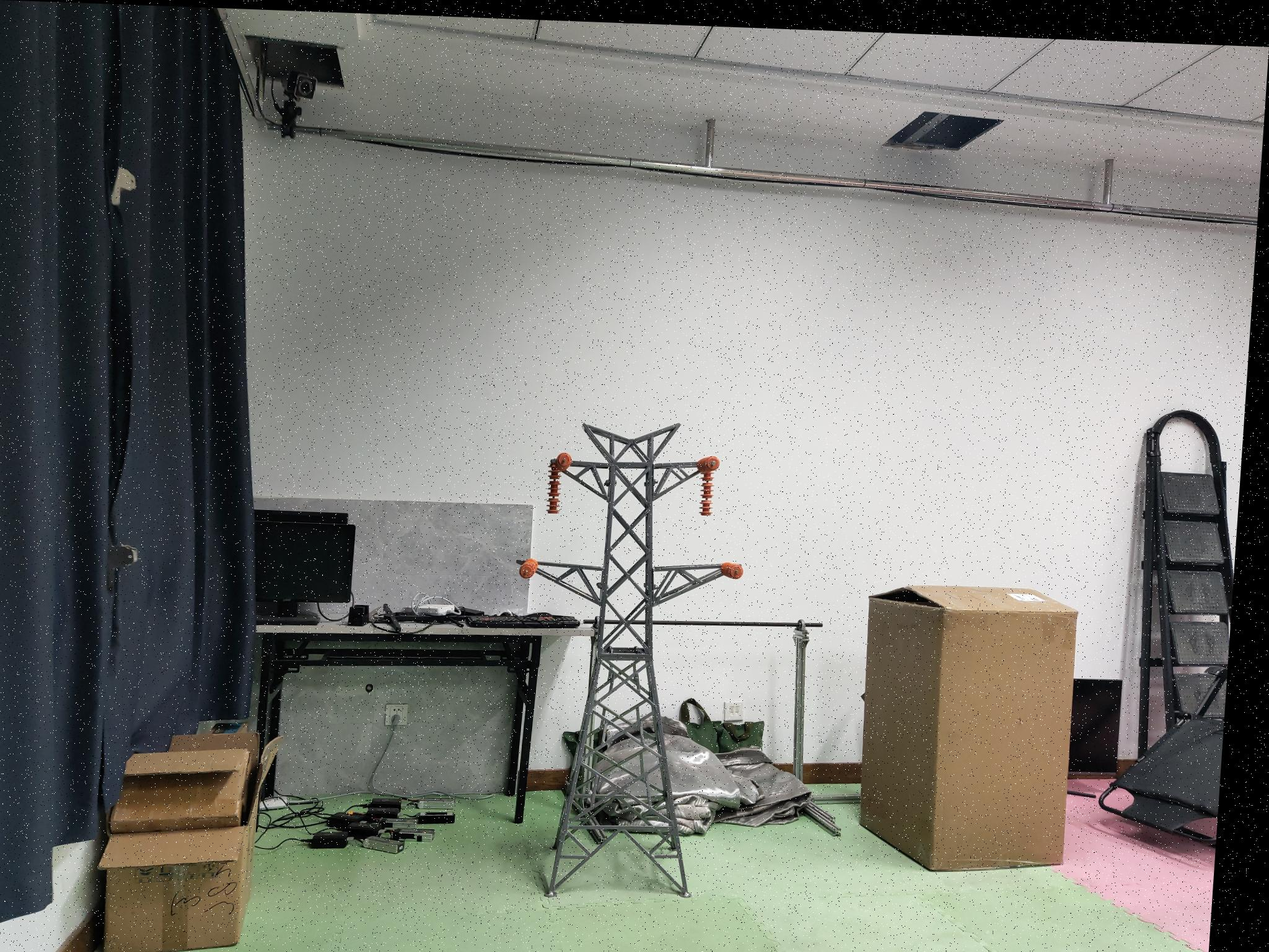tower: (512, 417, 748, 897)
